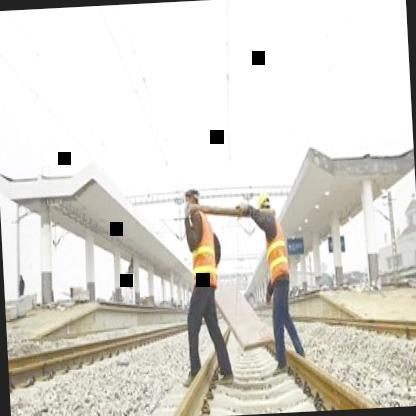helmet: (182, 172, 201, 212), (256, 186, 274, 221)
